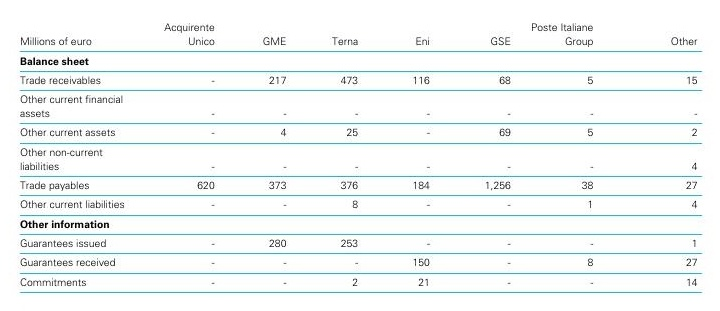table: (0, 0, 720, 311)
